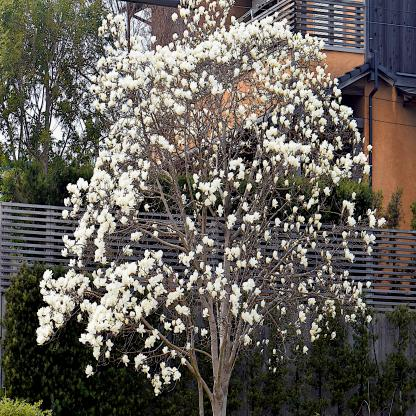Mokuren: (36, 0, 387, 398)
